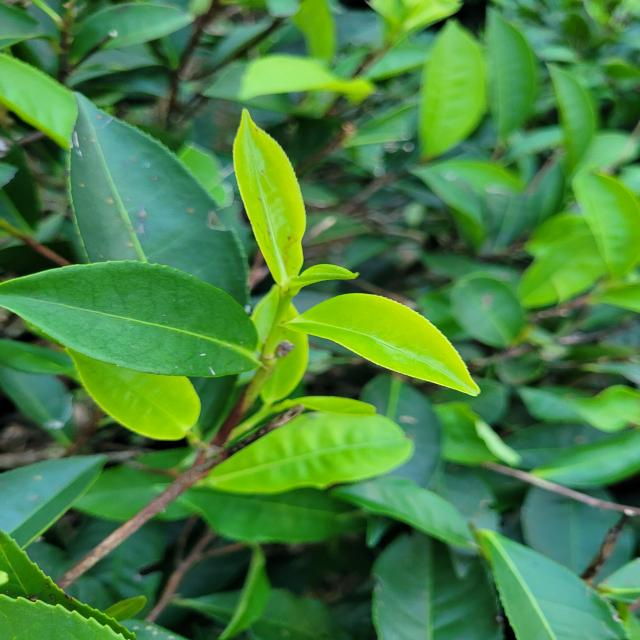Catagory A(1-2 days): (284, 252, 369, 296)
